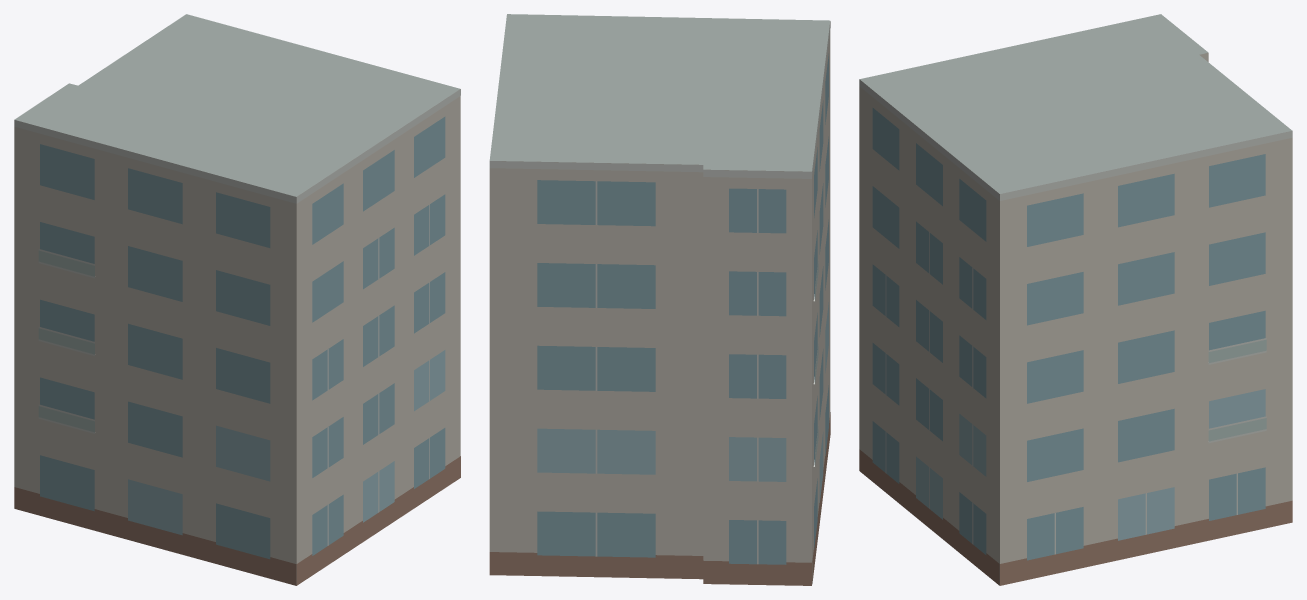
Rendered from survey-upis-33029311.glb.
The picture shows the model from 3 angles, left to right: view 1: azimuth 30°, elevation 25°; view 2: azimuth 150°, elevation 25°; view 3: azimuth 270°, elevation 25°; orthographic projection. The views are drawn at different scales.
Parts seen in each view (by area): view 1: survey-upis-33029311.tmp; view 2: survey-upis-33029311.tmp; view 3: survey-upis-33029311.tmp.
Boxes of the visible parts, x1=… form: survey-upis-33029311.tmp: x1=14, y1=14, x2=460, y2=585; survey-upis-33029311.tmp: x1=489, y1=14, x2=830, y2=585; survey-upis-33029311.tmp: x1=859, y1=14, x2=1292, y2=585.
Bounding box in the file's own units: 13.52 × 13.7 × 13.74.
